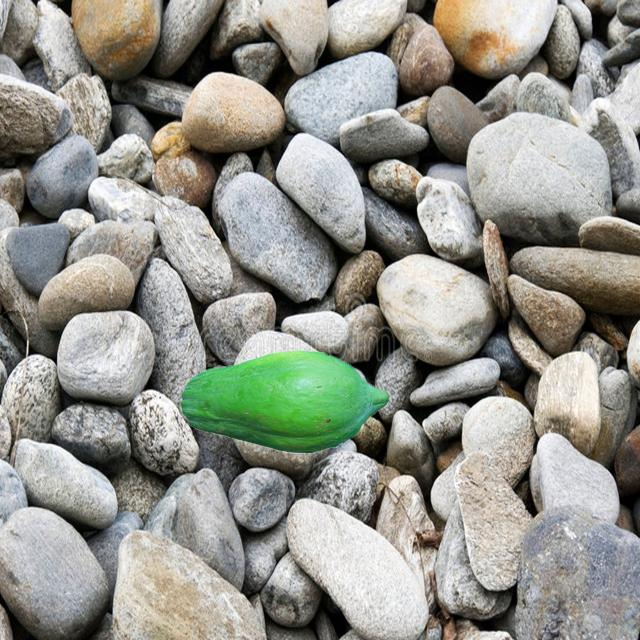Pepaya unrippen: (166, 350, 390, 454)
